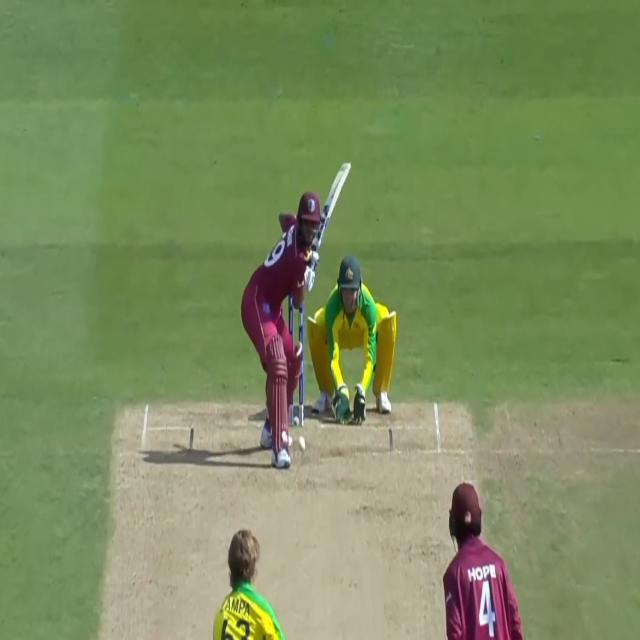ball: (295, 432, 309, 454)
